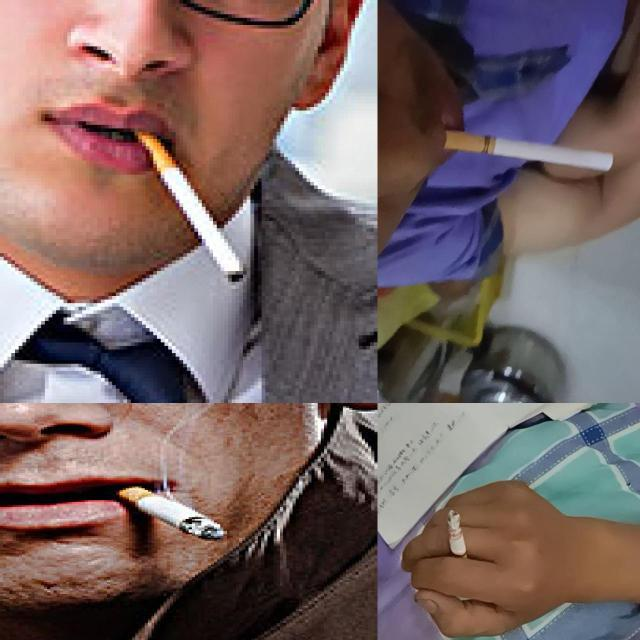smoking: (130, 122, 254, 278), (441, 126, 615, 173), (108, 481, 226, 541), (446, 508, 472, 572)
